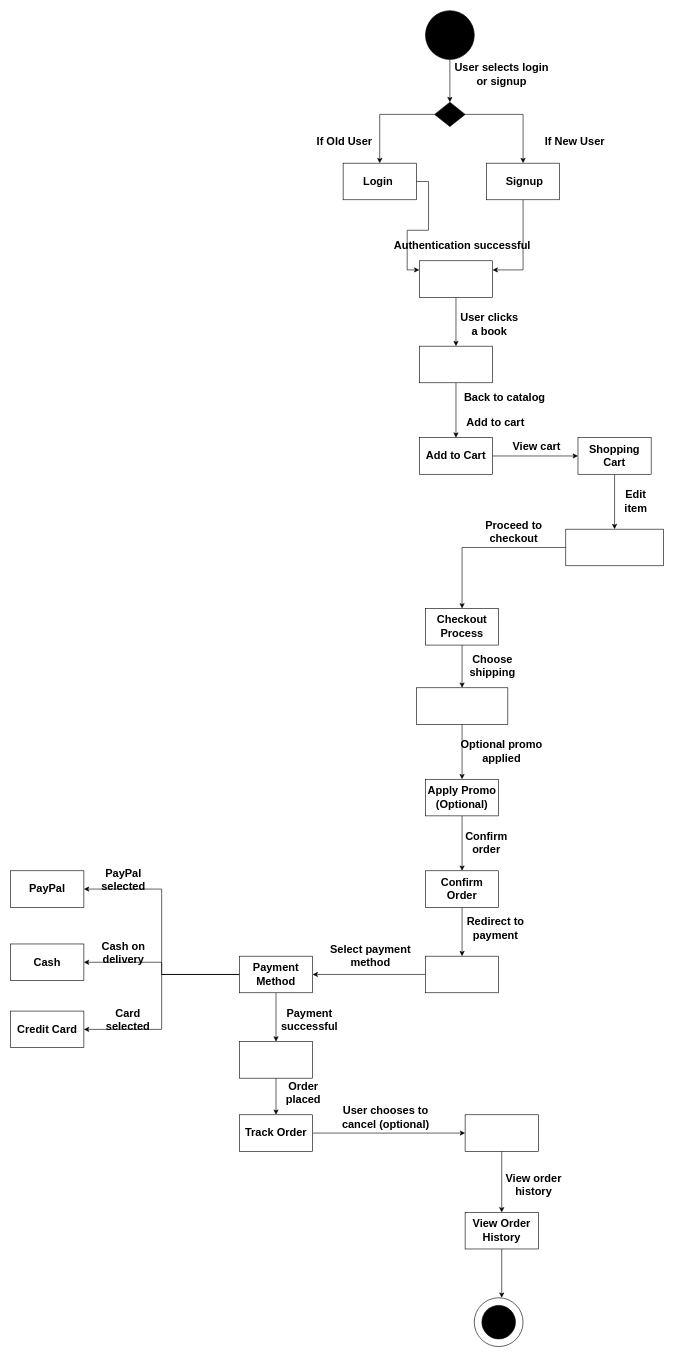
Image size: 674x1357. Some labels were removed from this diagram. The centre of each missing label's shape, as x and y in pixels:
Browse Catalog: the point at 456,278
Cancel Order: the point at 501,1132
Payment Gateway: the point at 462,974
Payment Success: the point at 276,1059
Select Shipping Option: the point at 462,705
Update Qty / Remove Item: the point at 614,547
View Book Details: the point at 456,364
